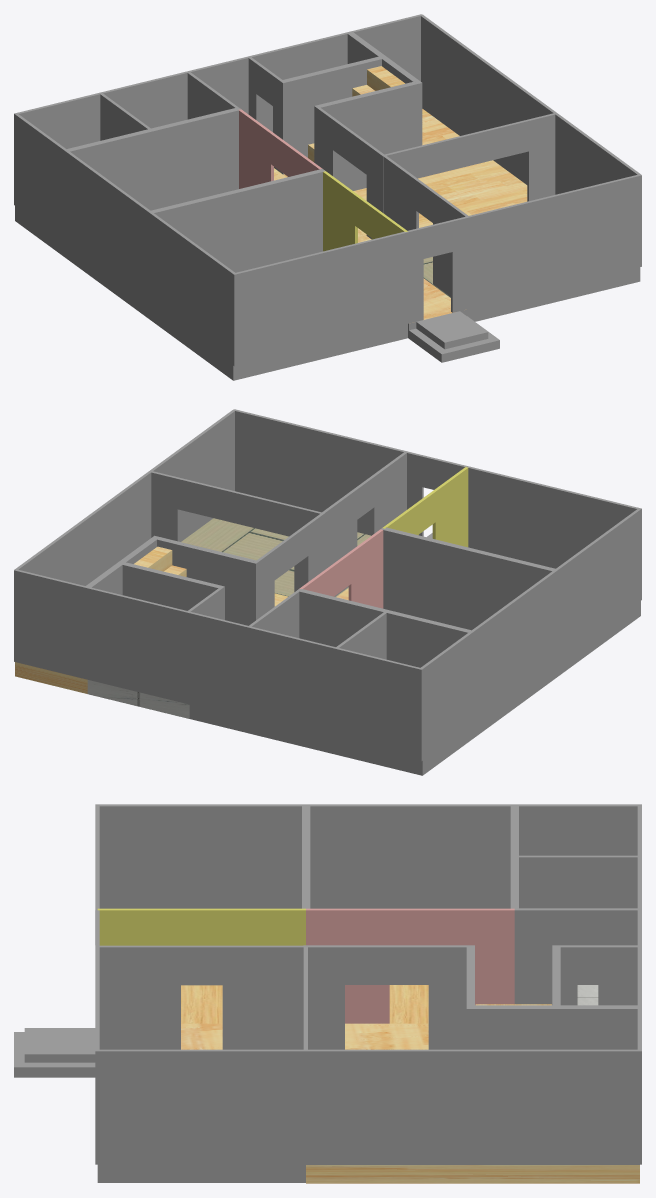
Rendered from AllHouse.fbx.
The picture shows the model from 3 angles, top to bottom: view 1: azimuth 30°, elevation 25°; view 2: azimuth 150°, elevation 25°; view 3: azimuth 270°, elevation 25°; orthographic projection. The views are drawn at different scales.
Parts seen in each view (by area): view 1: pCube48, pCube49, pCube8, pCube9, pCube23, pCube12, pCube21, polySurface10, pCube34, pCube43, polySurface1, pCube33 (+22 smaller); view 2: pCube34, pCube49, pCube30, pCube48, pCube29, pCube12, pCube21, pCube23, pCube11, polySurface10, pCube32, pCube35 (+23 smaller); view 3: pCube23, pCube22, pCube12, pCube21, polySurface11, polySurface7, polySurface12, polySurface4, polySurface14, polySurface9, pCube40, pCube33 (+8 smaller).
Part boxes in pixels (left/top/right/bottom): pCube48: left=232, top=231, right=408, bottom=366; pCube49: left=466, top=174, right=641, bottom=309; pCube8: left=149, top=170, right=325, bottom=304; pCube9: left=65, top=108, right=240, bottom=243; pCube23: left=421, top=15, right=556, bottom=184; pCube12: left=149, top=213, right=234, bottom=364; pCube21: left=67, top=150, right=151, bottom=303; polySurface10: left=385, top=113, right=555, bottom=201; pCube34: left=14, top=71, right=189, bottom=205; pCube43: left=316, top=81, right=422, bottom=190; polySurface1: left=353, top=109, right=527, bottom=235; pCube33: left=15, top=113, right=67, bottom=240; pCube34: left=247, top=626, right=423, bottom=761; pCube49: left=234, top=409, right=408, bottom=535; pCube30: left=381, top=528, right=556, bottom=662; pCube48: left=466, top=466, right=641, bottom=600; pCube29: left=86, top=587, right=189, bottom=703; pCube12: left=556, top=509, right=640, bottom=660; pCube21: left=471, top=570, right=556, bottom=721; pCube23: left=14, top=471, right=151, bottom=585; pCube11: left=14, top=569, right=87, bottom=679; polySurface10: left=149, top=471, right=322, bottom=591; pCube32: left=297, top=589, right=472, bottom=724; pCube35: left=187, top=612, right=248, bottom=718; pCube23: left=306, top=1049, right=639, bottom=1164; pCube22: left=97, top=1049, right=305, bottom=1164; pCube12: left=97, top=804, right=305, bottom=908; pCube21: left=306, top=804, right=514, bottom=908; polySurface11: left=97, top=945, right=305, bottom=1049; polySurface7: left=306, top=908, right=514, bottom=1023; polySurface12: left=303, top=945, right=470, bottom=1049; polySurface4: left=97, top=908, right=305, bottom=945; polySurface14: left=14, top=1023, right=428, bottom=1077; polySurface9: left=514, top=908, right=637, bottom=1005; pCube40: left=471, top=1007, right=637, bottom=1049; pCube33: left=515, top=804, right=639, bottom=908.
Size of the model in its own units: 14.01 by 3.5 by 15.05.
